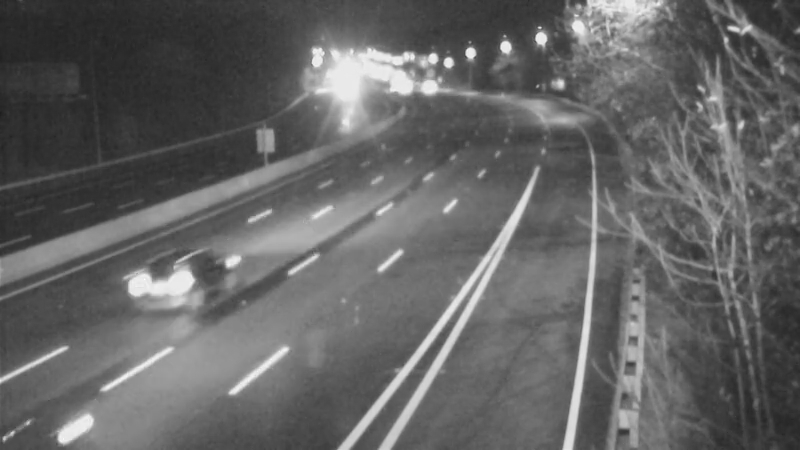vehicle: (133, 248, 213, 328), (401, 61, 451, 111)
